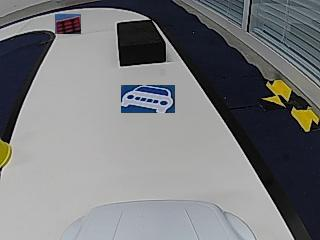block: (117, 19, 165, 65)
cone: (0, 138, 13, 168)
